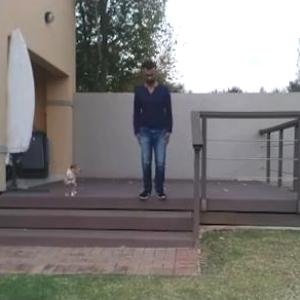follow: (138, 62, 174, 206)
